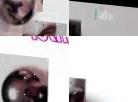ironball: (0, 53, 49, 101), (0, 0, 40, 33), (22, 18, 67, 36), (69, 76, 87, 101), (69, 17, 81, 36)
